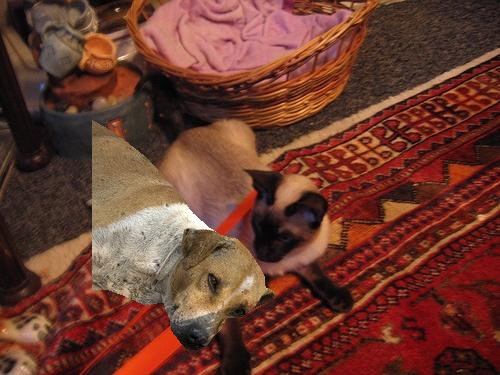tampered: (93, 121, 276, 350)
